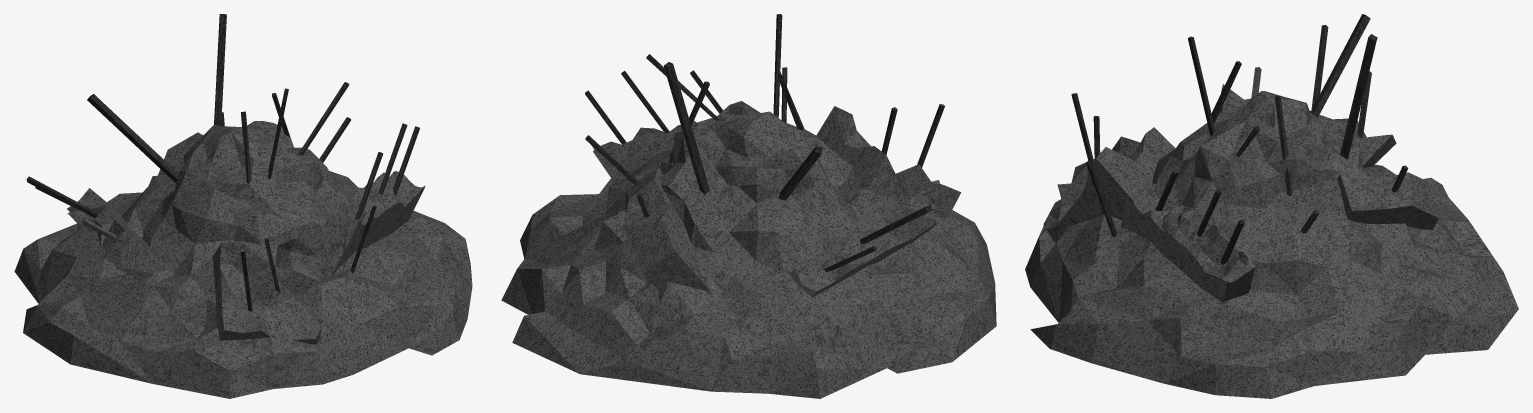
File: heap of garbage.fbx
3 renders of one model, left to right at view 1: azimuth 30°, elevation 25°; view 2: azimuth 150°, elevation 25°; view 3: azimuth 270°, elevation 25°, orthographic. The views are drawn at different scales.
Visible parts, largest first — view 1: Cube.040; view 2: Cube.040; view 3: Cube.040.
Part boxes in pixels (left/top/right/bottom): Cube.040: left=14, top=14, right=472, bottom=398; Cube.040: left=501, top=14, right=996, bottom=398; Cube.040: left=1025, top=14, right=1518, bottom=398.
Size of the model in its own units: 1670 by 931 by 1572.
